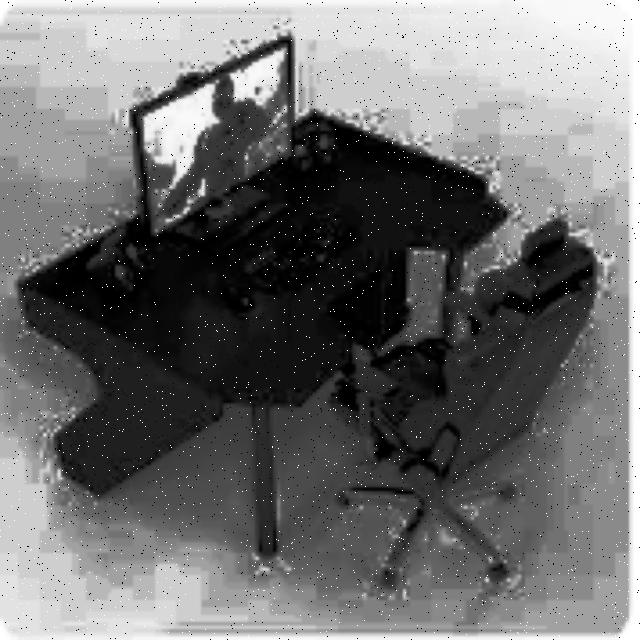book: (331, 218, 597, 586)
table: (18, 109, 511, 556)
